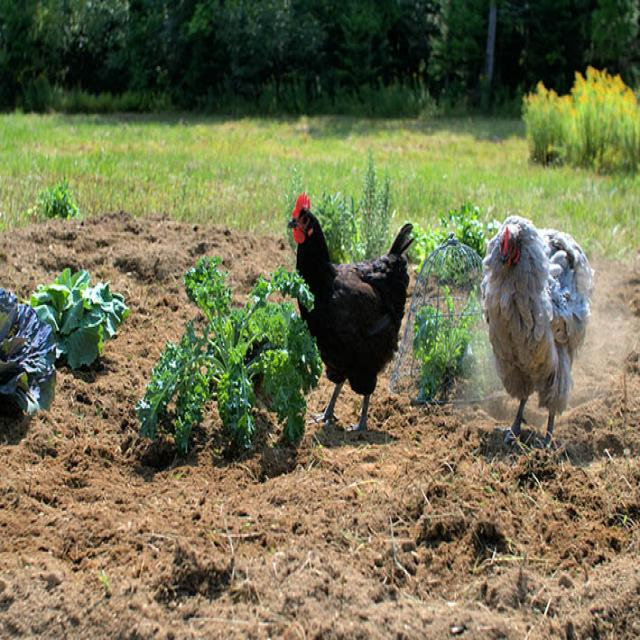chicken: (274, 164, 406, 467), (480, 166, 590, 472), (288, 194, 415, 434), (480, 216, 595, 438)
